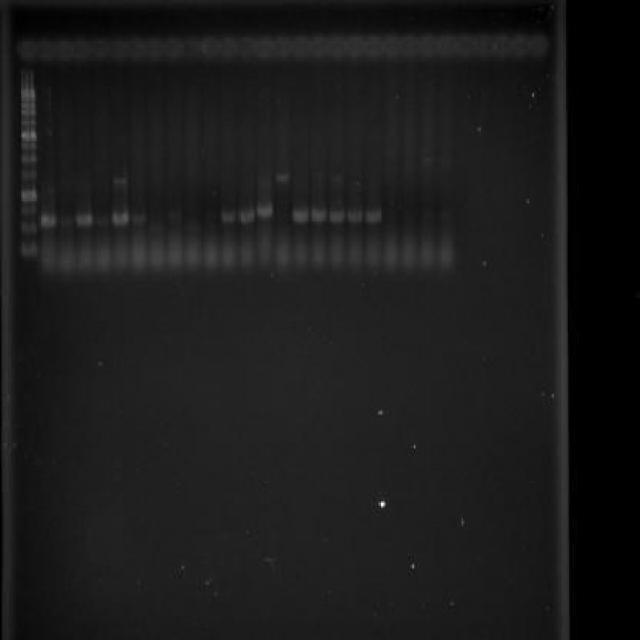B: (108, 208, 132, 230), (291, 204, 311, 227), (218, 203, 238, 224), (309, 202, 328, 224), (362, 206, 384, 225), (254, 200, 274, 220), (37, 212, 57, 231), (74, 210, 94, 228), (327, 207, 345, 224), (131, 209, 147, 228), (347, 207, 364, 224), (238, 208, 255, 225), (166, 208, 183, 222), (110, 176, 130, 187), (328, 171, 344, 184), (274, 172, 291, 182)
L: (9, 31, 554, 67)
M: (15, 70, 40, 266)
P: (16, 238, 38, 260), (18, 218, 38, 236), (19, 188, 38, 203), (18, 203, 38, 217), (19, 169, 38, 183), (19, 152, 38, 166), (18, 116, 38, 129), (19, 129, 38, 142), (20, 140, 37, 152), (18, 108, 38, 116), (18, 94, 38, 102), (18, 86, 38, 94), (19, 102, 38, 110)
Pc: (201, 33, 222, 66), (454, 33, 476, 64), (492, 32, 514, 63), (292, 33, 312, 64), (530, 32, 550, 63), (110, 34, 130, 64), (129, 34, 149, 64), (344, 32, 364, 62), (182, 34, 201, 64), (255, 34, 274, 64), (400, 33, 418, 64), (420, 32, 438, 63), (475, 32, 493, 63), (238, 34, 256, 64), (274, 34, 292, 64), (365, 32, 383, 62), (53, 35, 72, 63), (513, 32, 530, 63), (16, 38, 36, 64), (90, 37, 110, 63), (438, 32, 454, 63), (383, 34, 400, 63), (166, 36, 182, 66), (222, 34, 238, 64), (311, 32, 327, 62), (328, 32, 344, 62), (149, 36, 166, 64), (72, 37, 90, 63), (37, 38, 54, 64)
